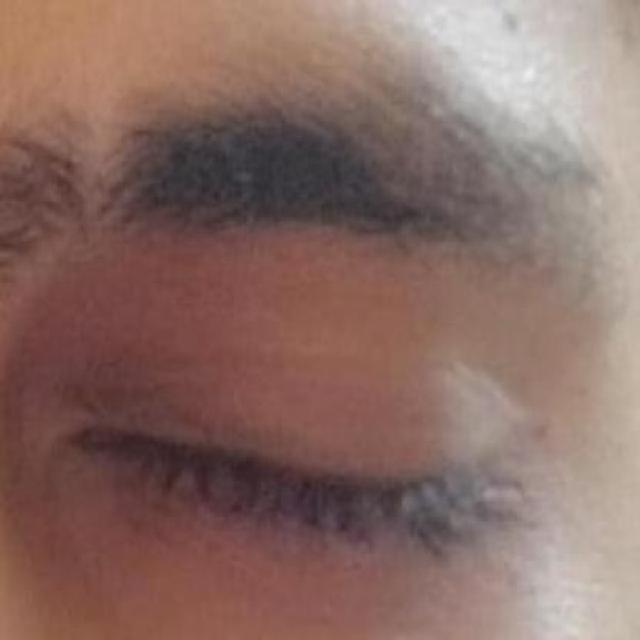drowsy: (72, 328, 540, 617)
